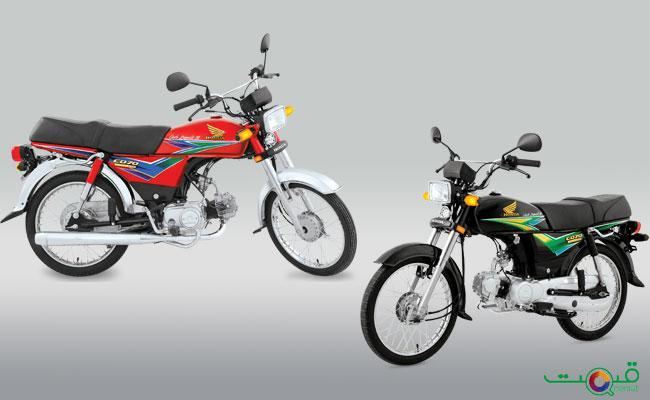bike: (1, 33, 357, 281), (359, 124, 649, 366)
